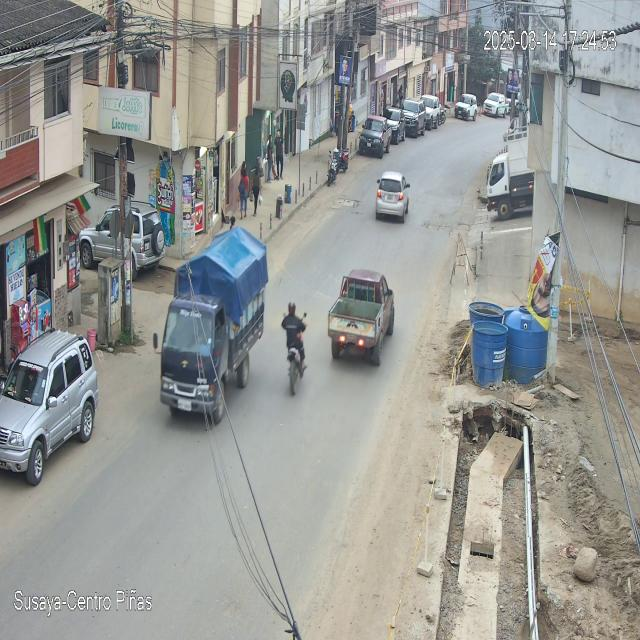CMT: (328, 269, 394, 367)
MOTORCYCLE: (287, 330, 307, 396)
TRUCK: (160, 227, 269, 432)
